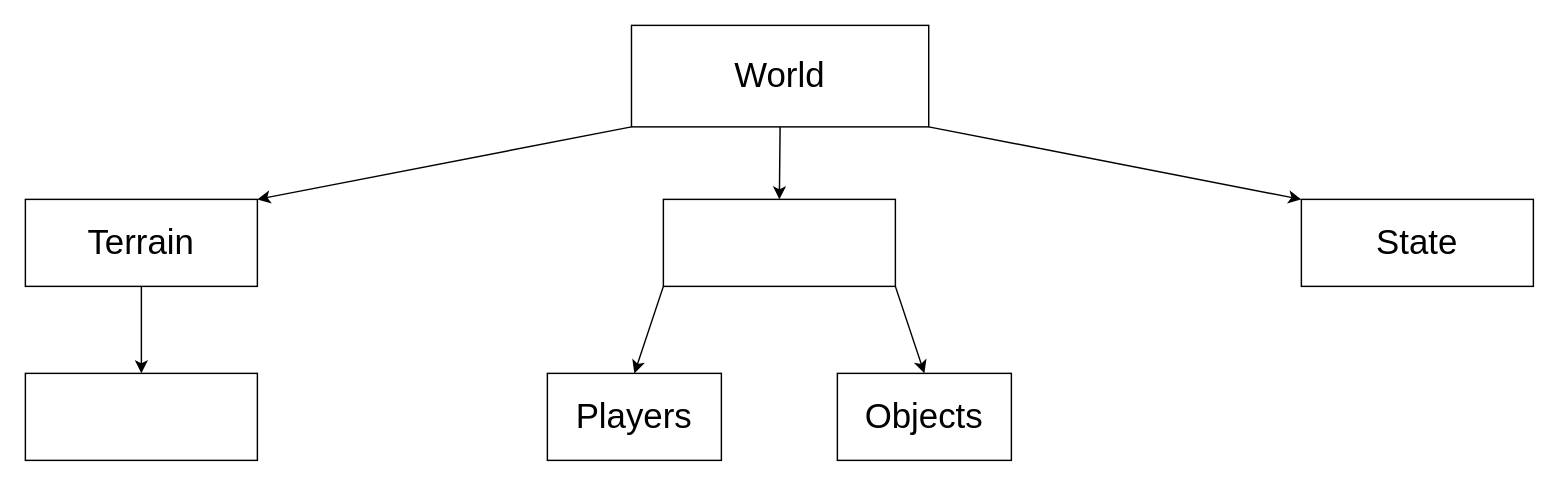
Image size: 1559x486. Some labels were removed from this diagram. The centre of each missing label's shape, as x and y in pixels:
"Chunks" belongs at (140,416).
"Entities" belongs at (778,242).
